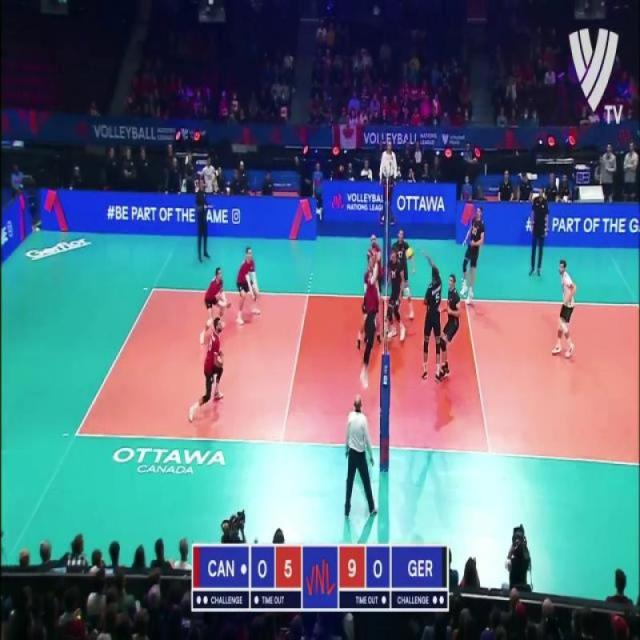volleyball: (406, 247, 415, 260)
